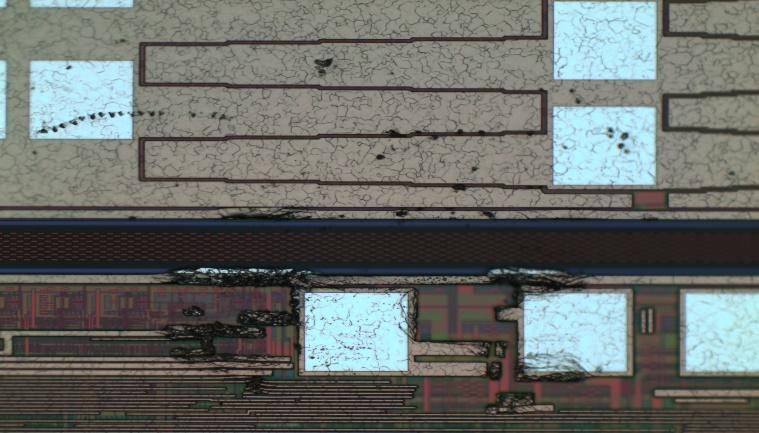SCRATCH: (26, 32, 638, 419)
